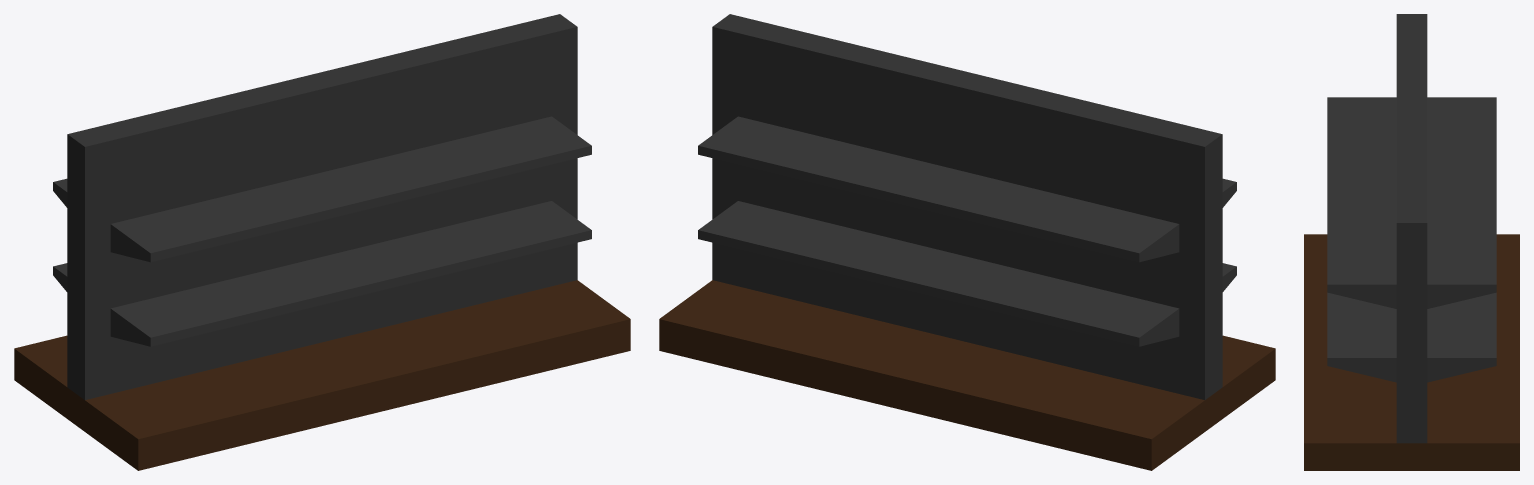
The model's file is Shelf.glb.
The picture shows the model from 3 angles, left to right: view 1: azimuth 30°, elevation 25°; view 2: azimuth 150°, elevation 25°; view 3: azimuth 270°, elevation 25°; orthographic projection. The views are drawn at different scales.
Parts seen in each view (by area): view 1: Cube.001, Cube; view 2: Cube.001, Cube; view 3: Cube.001, Cube.
Boxes of the visible parts, x1,y1,x2,y2 form: Cube.001: [53, 14, 591, 399]; Cube: [14, 280, 630, 470]; Cube.001: [698, 14, 1236, 399]; Cube: [659, 280, 1275, 470]; Cube.001: [1327, 14, 1496, 443]; Cube: [1304, 234, 1519, 470].
Size of the model in its own units: 4.58 by 2.53 by 2.
Materials: 3 (1 with a texture image).
